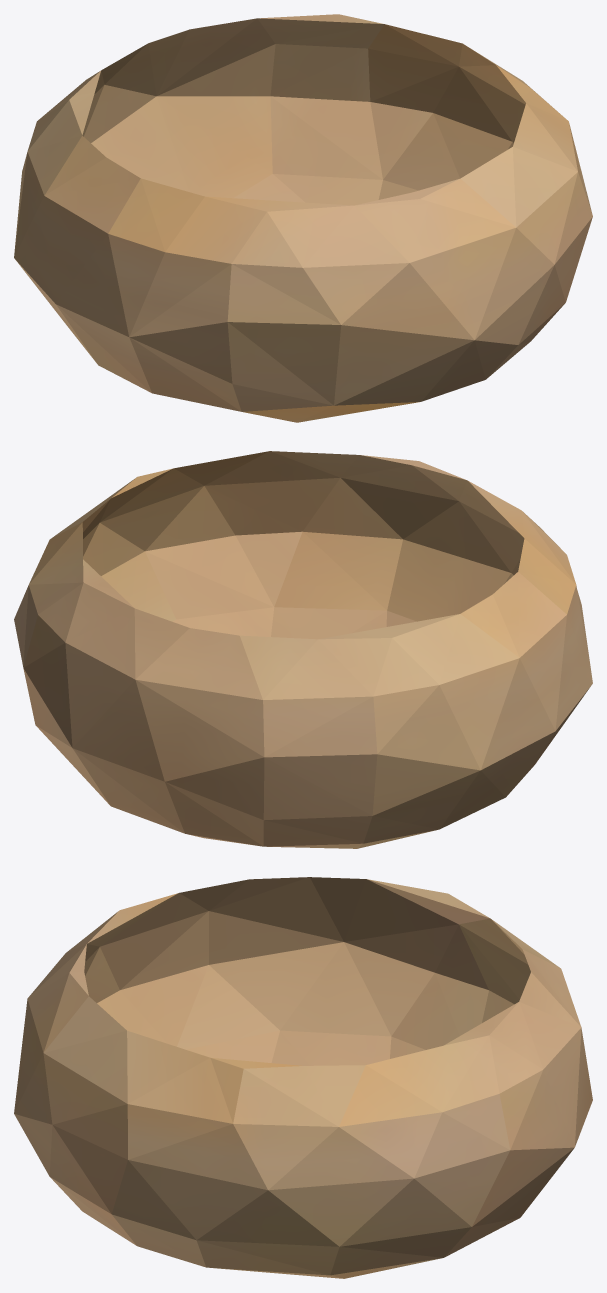
The model's file is bowl2_1b.dae.
The picture shows the model from 3 angles, top to bottom: view 1: azimuth 30°, elevation 25°; view 2: azimuth 150°, elevation 25°; view 3: azimuth 270°, elevation 25°; orthographic projection.
Parts seen in each view (by area): view 1: node; view 2: node; view 3: node.
Part boxes in pixels (x1,y1,x2,y2): node: [14, 14, 592, 422]; node: [14, 451, 592, 848]; node: [14, 877, 592, 1278].
Bounding box in the file's own units: 0.144 × 0.0671 × 0.1433.
1 material, 1 textured.
